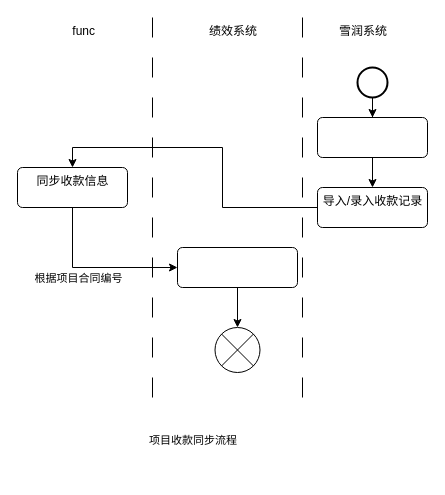
Image size: 445x495. Some labels were removed from this diagram. Each missing label, with the centre of its shape:
"新增收款记录" belongs at [237,267].
"选择收入类合同" belongs at [372,137].
